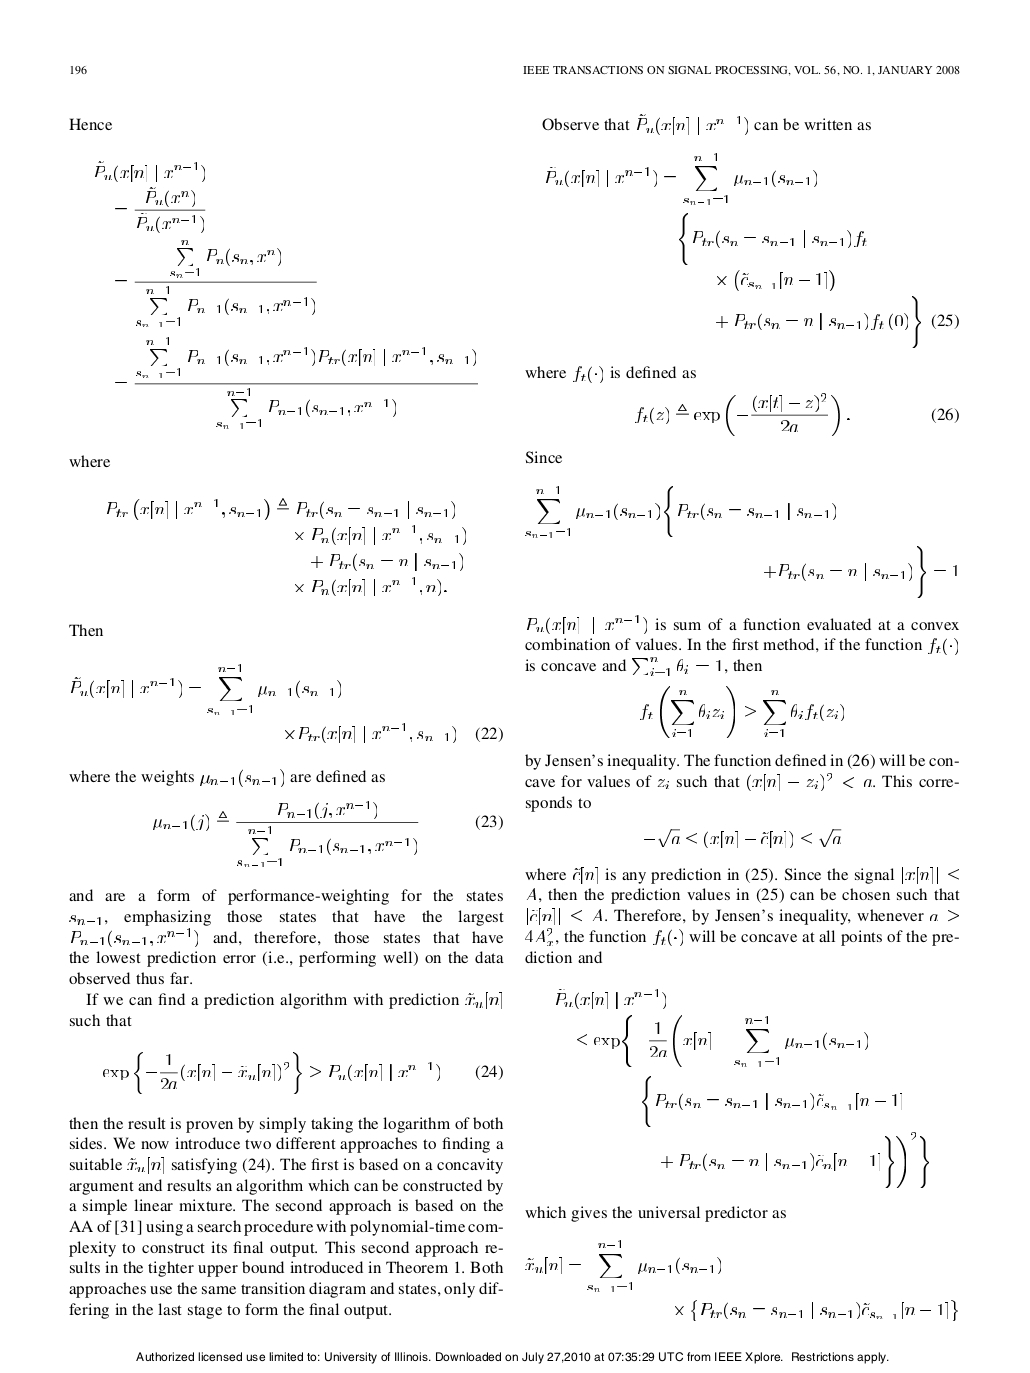formula: (115, 336, 477, 428), (153, 801, 502, 866), (103, 1051, 502, 1094), (115, 240, 316, 326), (525, 485, 835, 538), (577, 1014, 867, 1067), (661, 1131, 928, 1188), (635, 392, 958, 436), (546, 153, 816, 204), (642, 1075, 901, 1127), (71, 664, 340, 714), (716, 295, 958, 348), (641, 685, 843, 738), (764, 545, 956, 598), (525, 1240, 719, 1291), (679, 212, 866, 265), (107, 497, 454, 520), (675, 1299, 958, 1321), (285, 722, 502, 743), (644, 828, 841, 848), (115, 187, 204, 232), (295, 524, 465, 545), (295, 576, 446, 596), (311, 552, 462, 571), (717, 269, 834, 291), (95, 160, 204, 182), (556, 988, 665, 1009)
